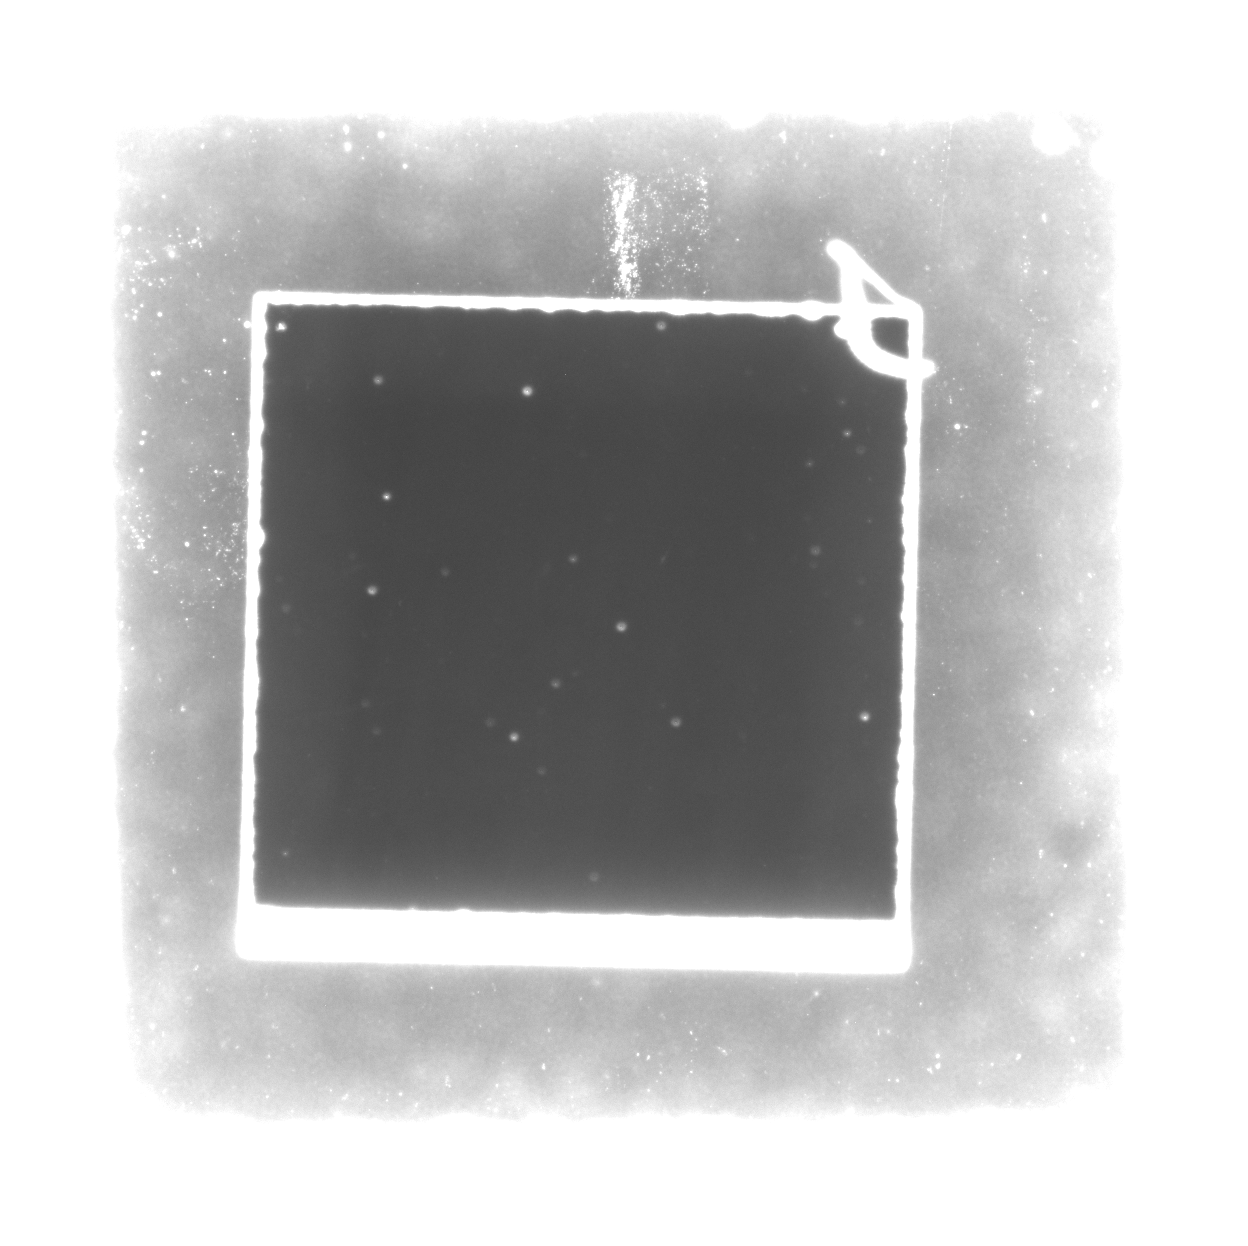dot: (357, 577, 383, 602), (610, 610, 634, 636), (502, 723, 522, 747), (666, 707, 689, 728), (854, 704, 876, 725), (516, 379, 538, 398), (376, 485, 397, 504), (368, 369, 387, 387)
edge_bottom: (233, 890, 915, 996)
others: (825, 243, 934, 385)
